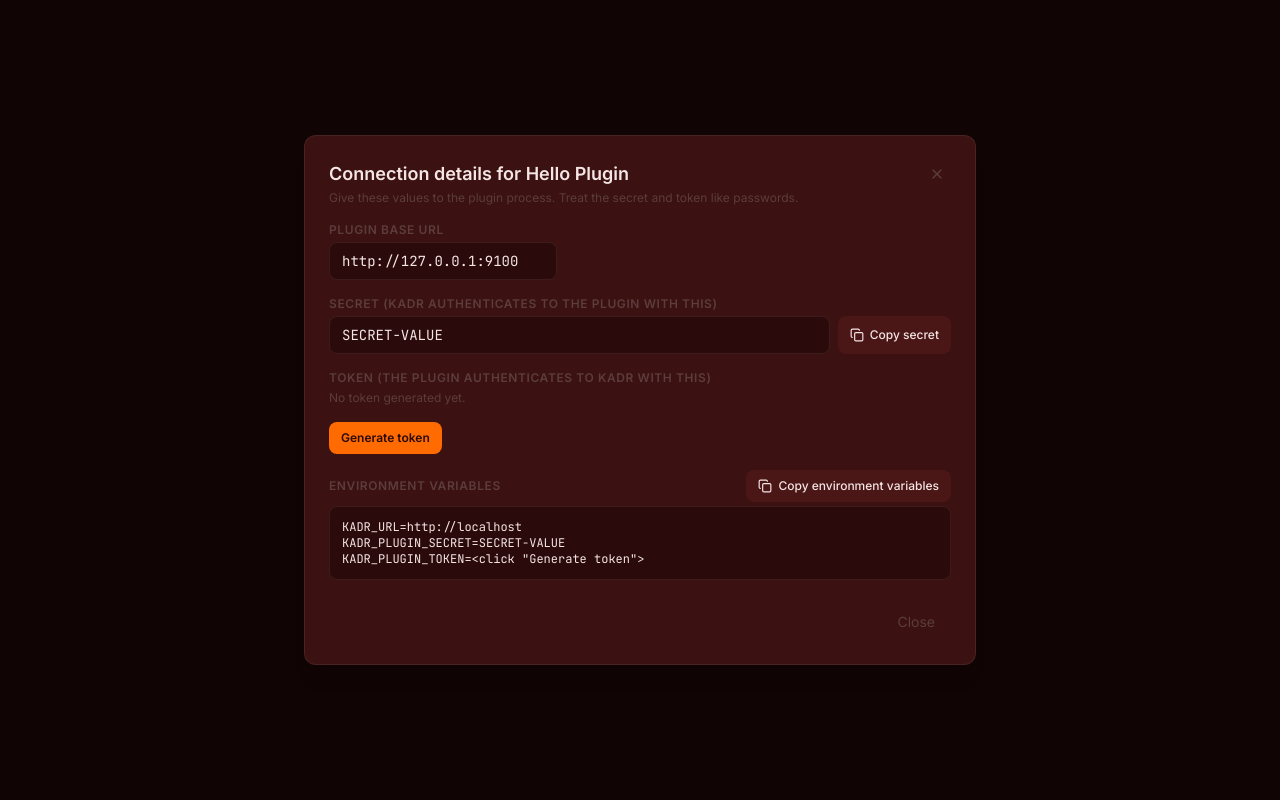
Test: ConnectionDialog › shows API error message when token generation fails
Expected: the field showing "SECRET-VALUE" is shown, [329, 316, 830, 354]
Click the button "Generate token": (385,438) [329, 422, 442, 454]
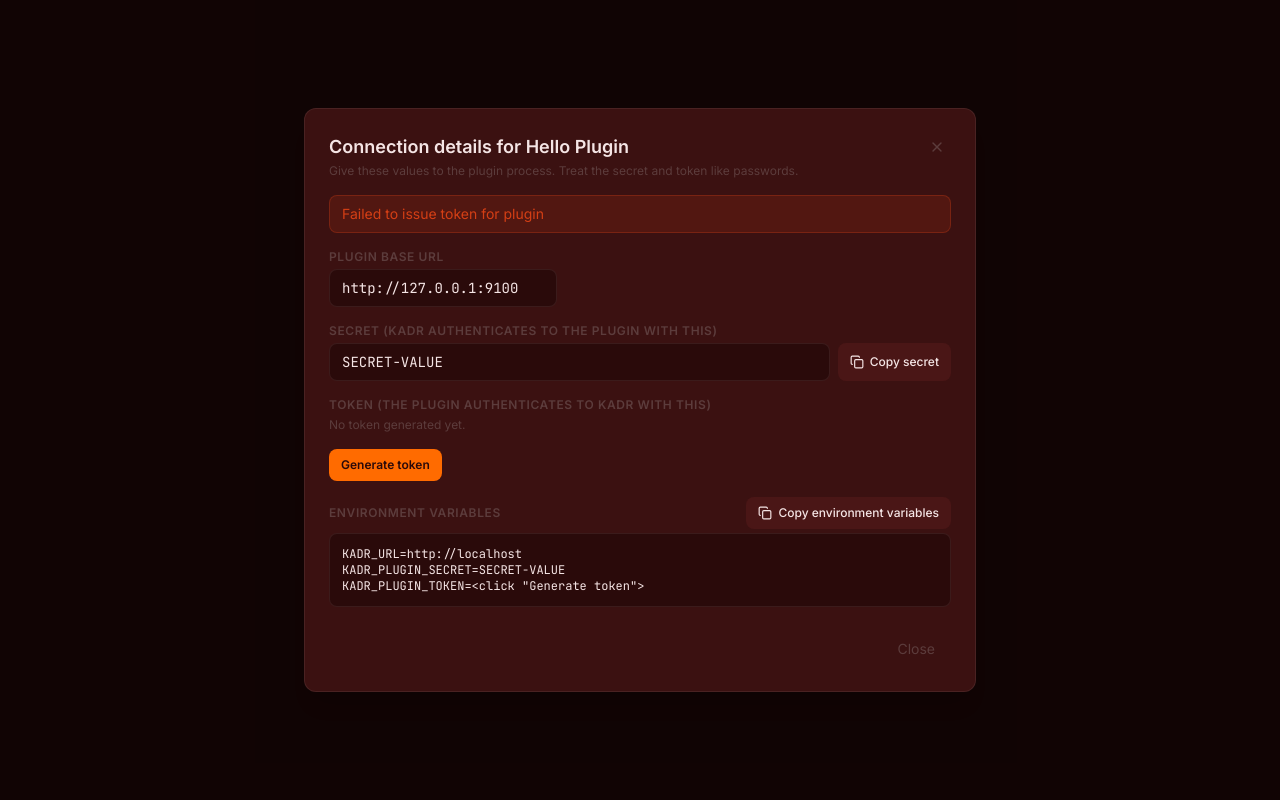
Expected: the message reads "Failed to issue token for plugin", [342, 205, 544, 222]
